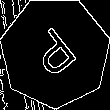P_SE: (26, 21, 85, 84)
